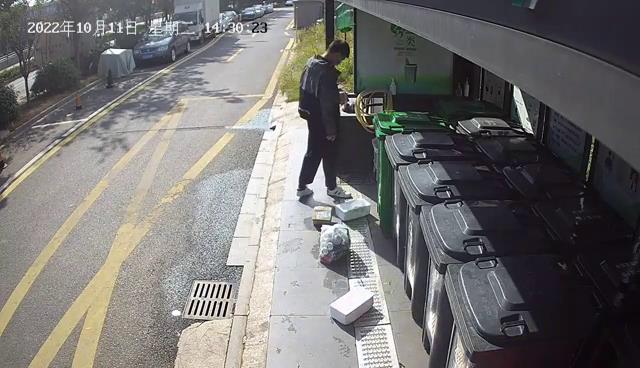person: (295, 38, 353, 199)
suliaozhipin: (318, 223, 352, 266)
zhizhipin: (329, 285, 374, 326), (336, 196, 371, 222), (311, 203, 333, 225)
